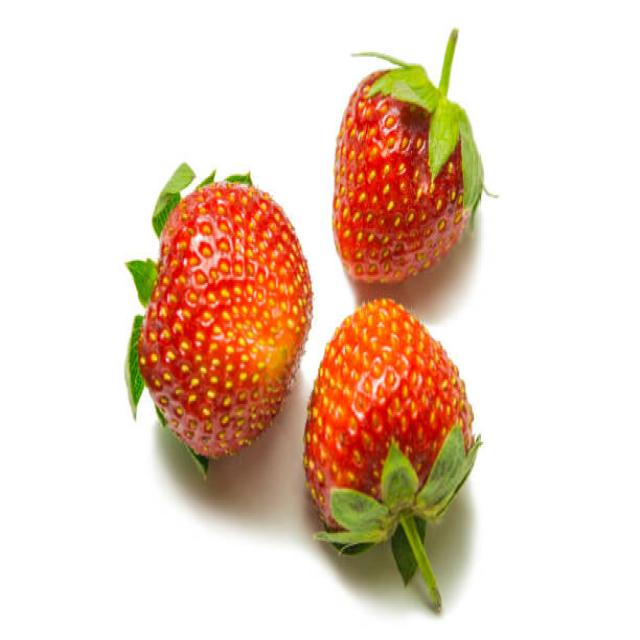Healthy Fruit: (137, 182, 312, 457), (305, 300, 473, 530), (333, 72, 473, 284)
